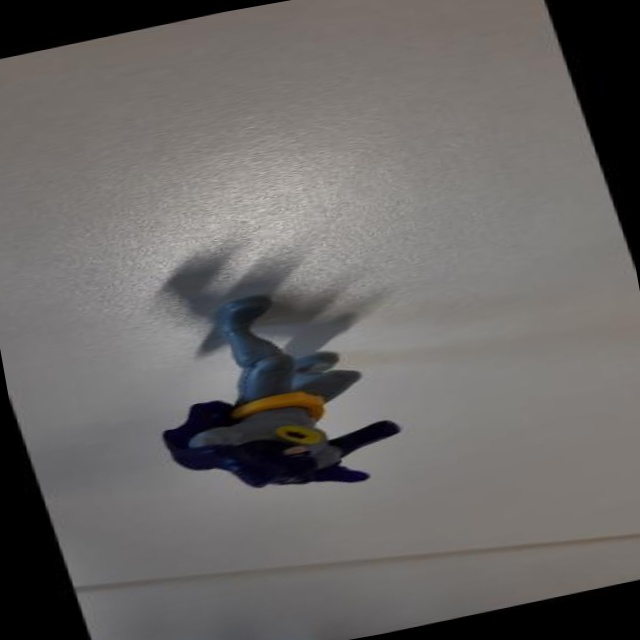Batman: (85, 229, 461, 542)
